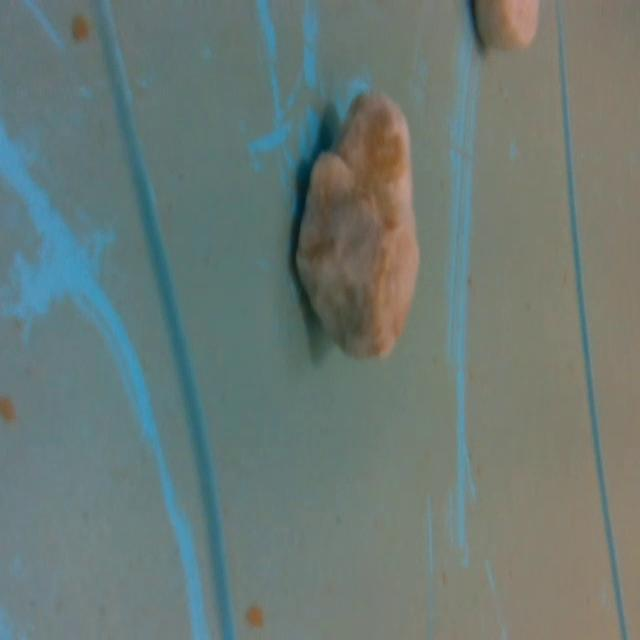rock: (287, 82, 436, 377)
